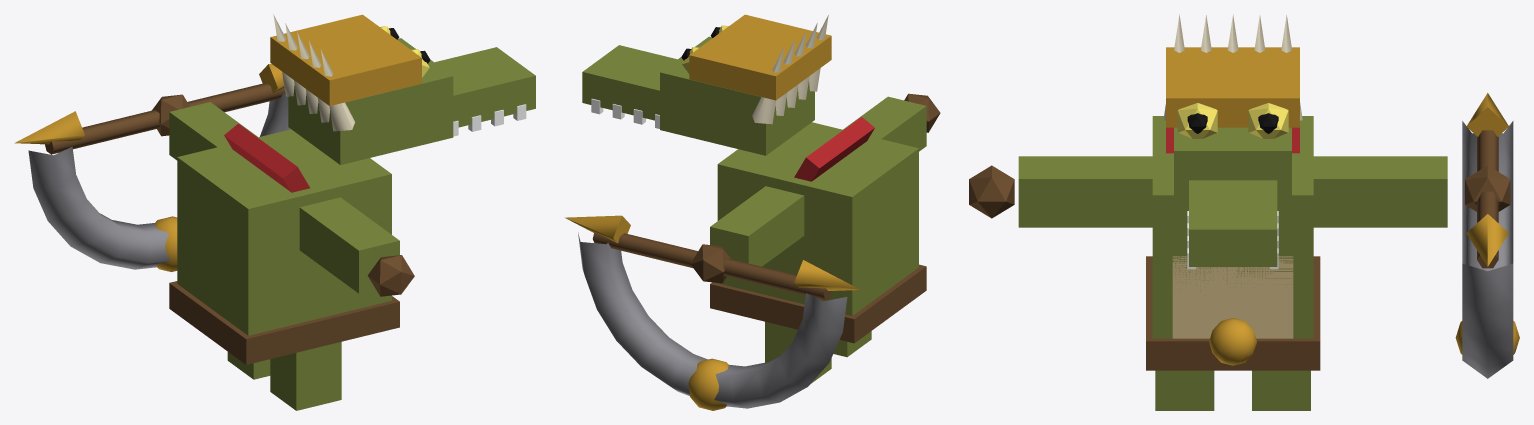
Rendered from level1.glb.
3 views of the same model, side by side, from view 1: azimuth 30°, elevation 25°; view 2: azimuth 150°, elevation 25°; view 3: azimuth 270°, elevation 25° (orthographic). The views are drawn at different scales.
Bounding box in the file's own units: 1.52 × 1.29 × 1.64.
